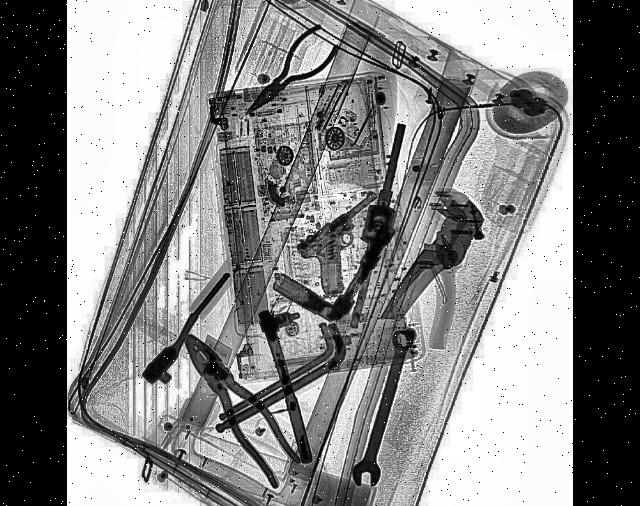Gun: (295, 179, 401, 307)
Pliers: (173, 314, 304, 492), (238, 15, 342, 130)
Wrench: (351, 320, 422, 492)
